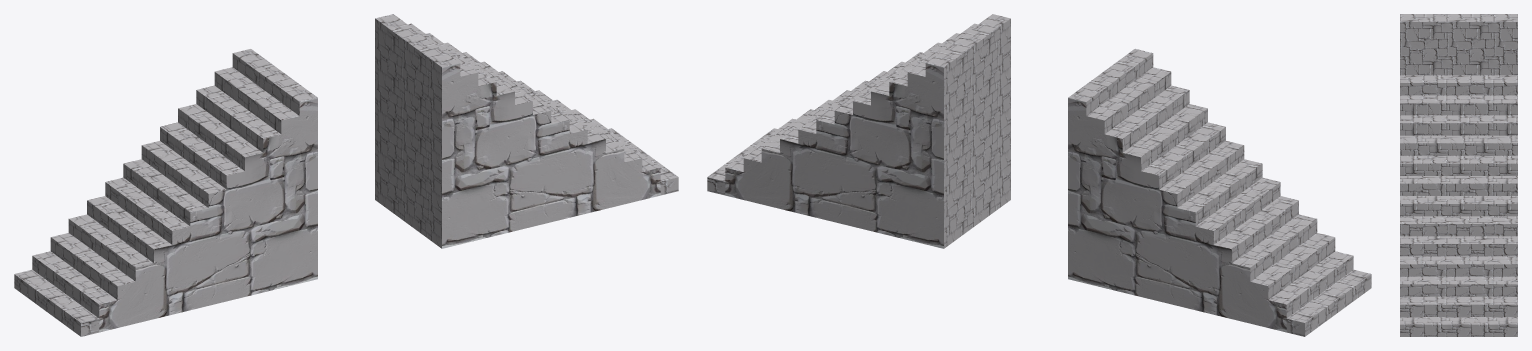
Rendered from Staircases.fbx.
3 views of the same model, side by side, from view 1: azimuth 30°, elevation 25°; view 2: azimuth 150°, elevation 25°; view 3: azimuth 270°, elevation 25° (orthographic). The views are drawn at different scales.
Parts seen in each view (by area): view 1: Plane, Plane.001; view 2: Plane, Plane.001; view 3: Plane.001, Plane.
Boxes of the visible parts, x1,y1,x2,y2 form: Plane: (14, 49, 317, 336); Plane.001: (375, 14, 678, 248); Plane: (1068, 49, 1371, 336); Plane.001: (707, 14, 1010, 248); Plane.001: (1400, 75, 1517, 336); Plane: (1400, 14, 1517, 75).
Bounding box in the file's own units: 2070 × 601 × 401.
Materials: 1 (1 with a texture image).
